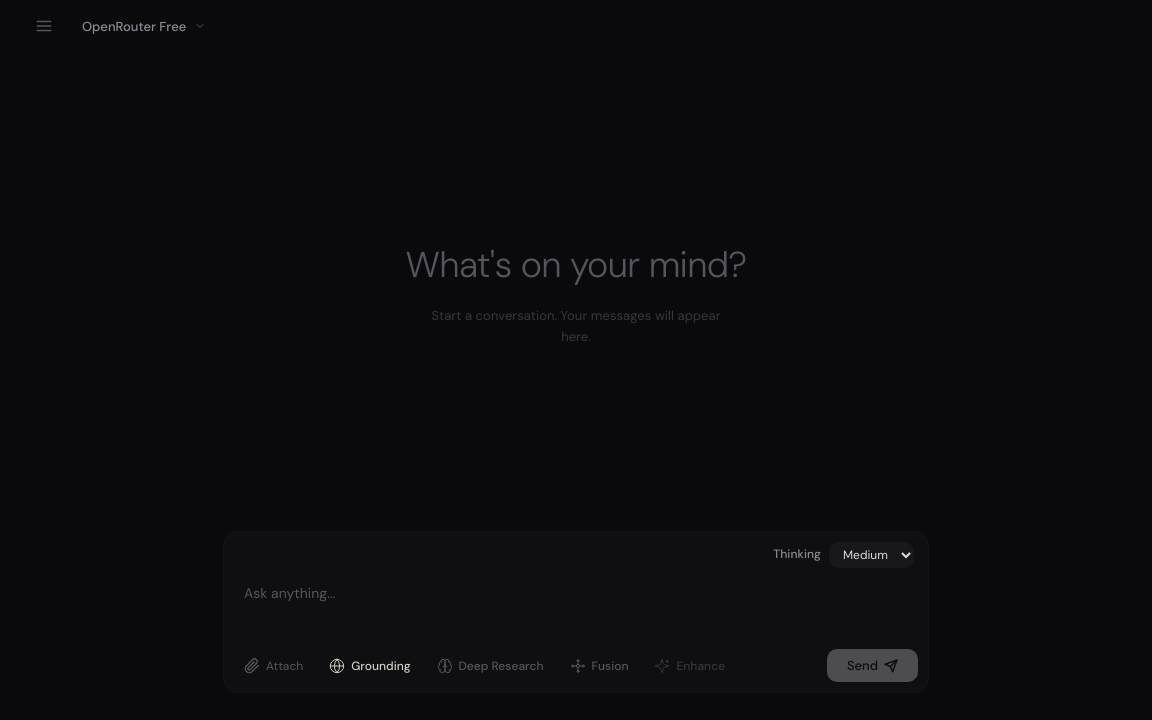
it: Deep research streaming UX › renders compact one-line progress for non-deep-research sends
In the text box with placeholder "Ask anything...": coordinates (576, 601) [224, 568, 928, 635], type "Normal chat request"
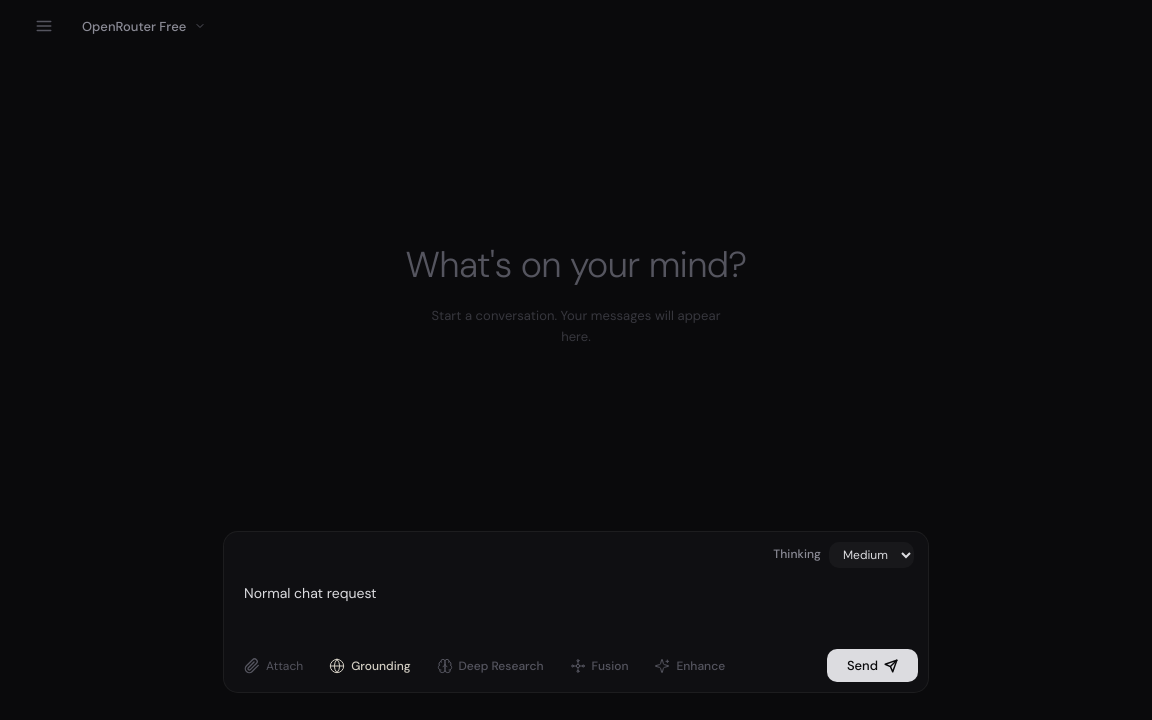
Click the button "Send": coordinates (872, 666) [827, 649, 918, 682]
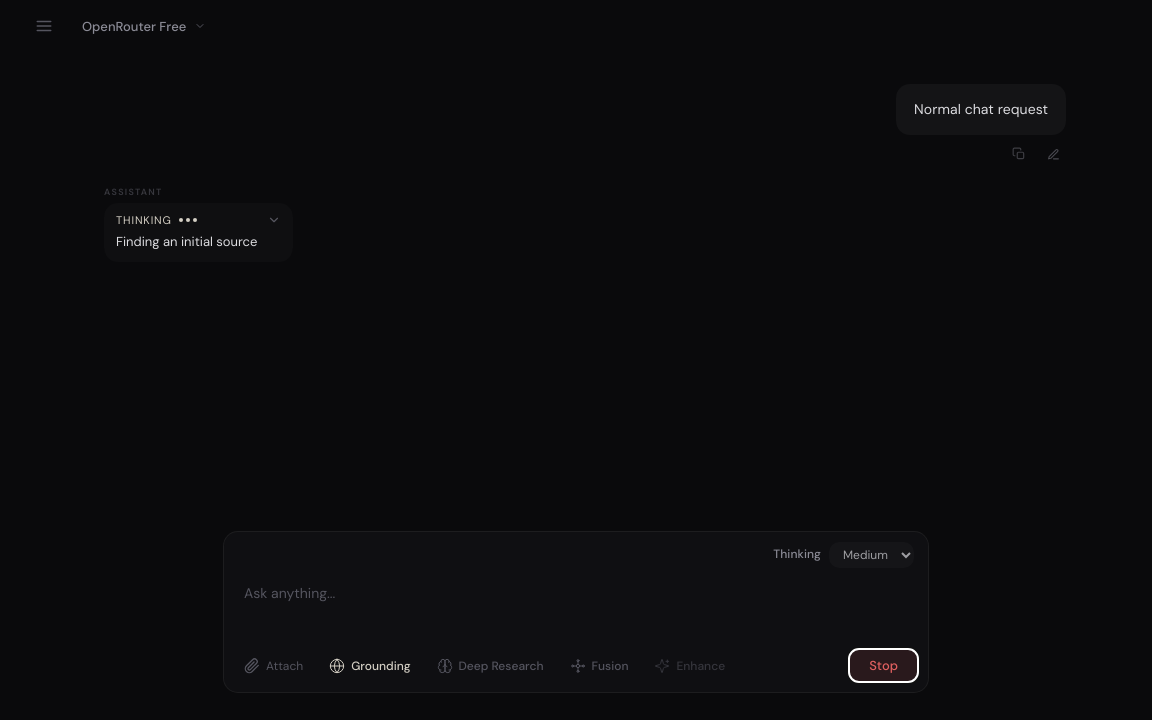
Check: the text "Finding an initial source" is shown, box [116, 234, 257, 252]
